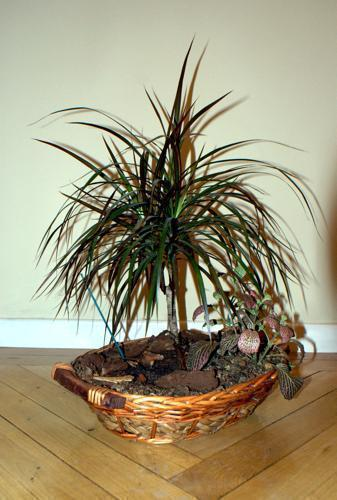Matera: (3, 49, 318, 439)
